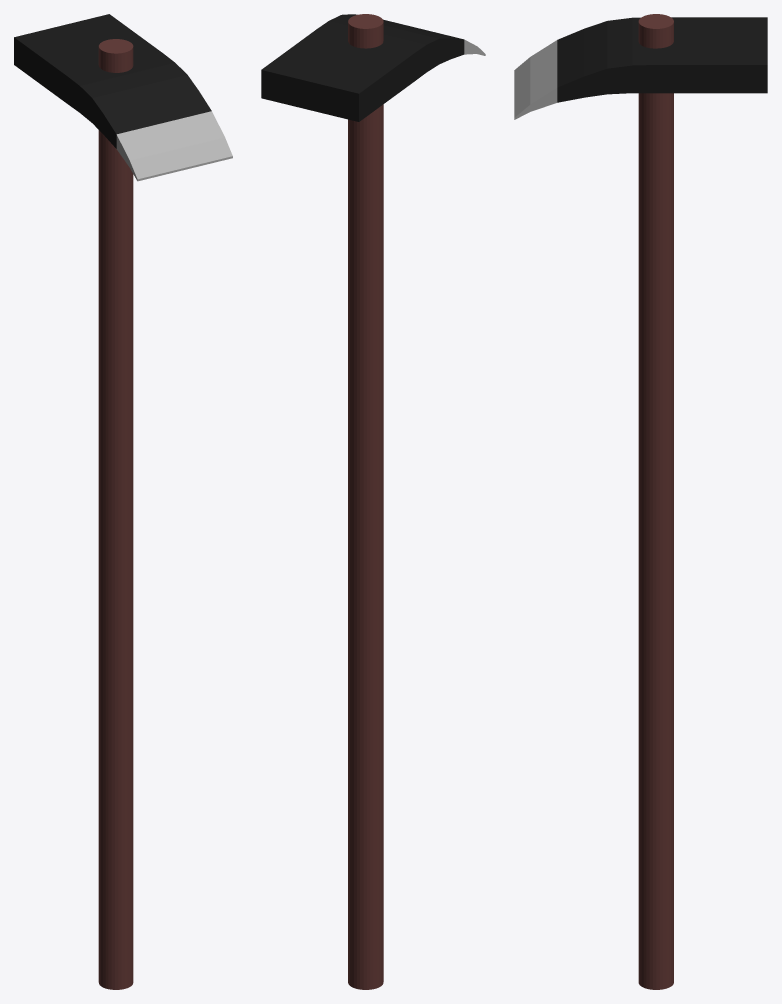
The model's file is TillingHoe.fbx.
The picture shows the model from 3 angles, left to right: view 1: azimuth 30°, elevation 25°; view 2: azimuth 150°, elevation 25°; view 3: azimuth 270°, elevation 25°; orthographic projection. The views are drawn at different scales.
Visible parts, largest first — view 1: Cylinder, Cube; view 2: Cylinder, Cube; view 3: Cylinder, Cube.
Part boxes in pixels (box(x1,y1,x2,y2)): Cylinder: box(98, 39, 133, 989); Cube: box(14, 14, 232, 181); Cylinder: box(348, 14, 383, 989); Cube: box(261, 14, 485, 121); Cylinder: box(638, 14, 673, 989); Cube: box(514, 17, 767, 119).
Bounding box in the file's own units: 15.93 × 150 × 35.74.
